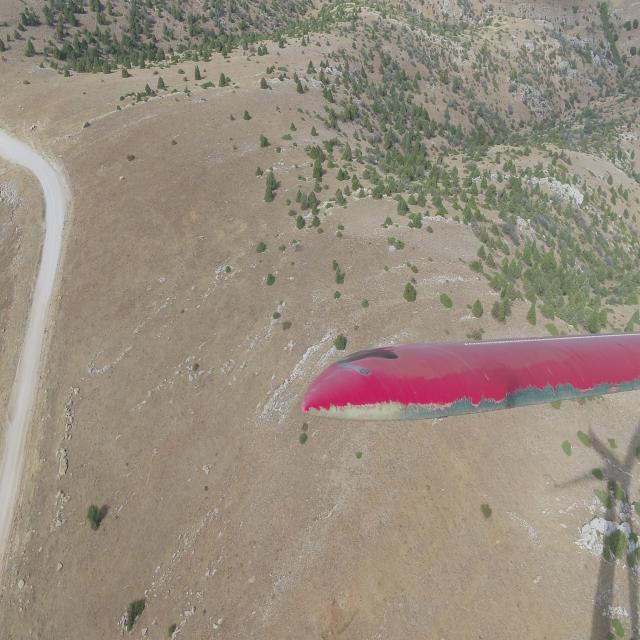Burn Mark: (338, 345, 400, 368)
EROSION: (449, 381, 629, 414), (318, 402, 441, 424)
